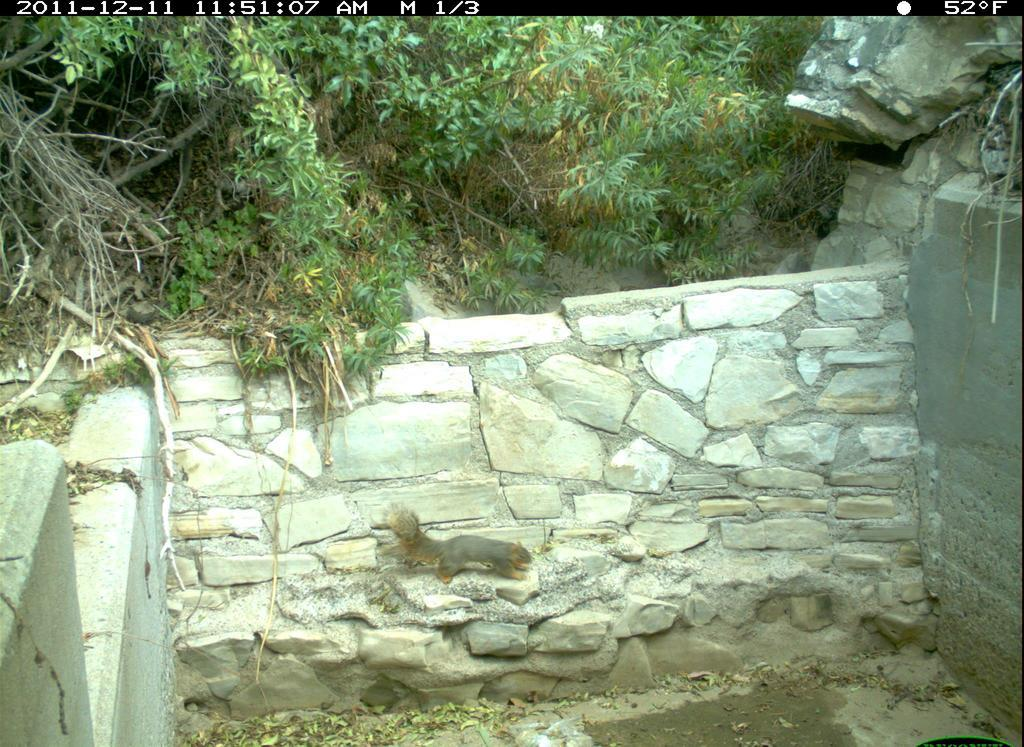squirrel: (382, 497, 539, 587)
